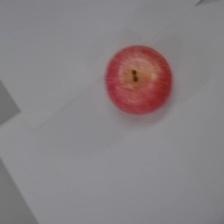red: (104, 42, 173, 116)
